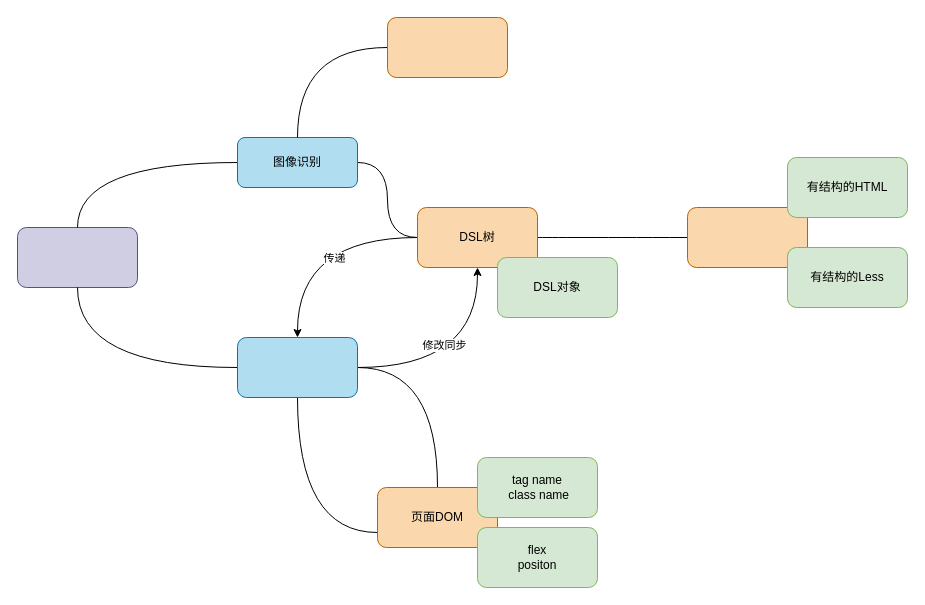
Some shapes in this 925 by 605 pixel diagram are drawn without their labels. The shapes that lost their labels are listed below. From the top down, each one's centre as x and y in pixels, then its label:
(x=447, y=47): 设计稿图片
(x=77, y=257): UI2Code识别
(x=747, y=237): 生成代码
(x=297, y=367): 可视化编辑
